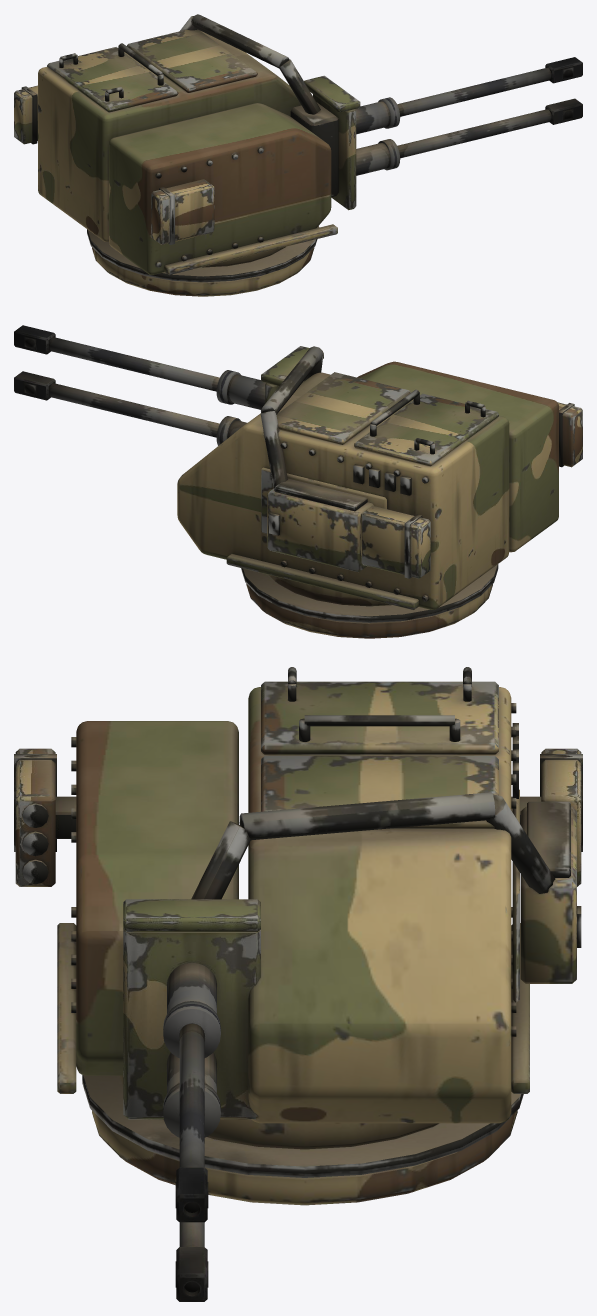
Rendered from turret_grach_t2_reed.glb.
3 views of the same model, one above another, from view 1: azimuth 30°, elevation 25°; view 2: azimuth 150°, elevation 25°; view 3: azimuth 270°, elevation 25° (orthographic). The views are drawn at different scales.
Parts seen in each view (by area): view 1: turret_light_t2, guns, pods; view 2: turret_light_t2, guns, pods; view 3: turret_light_t2, guns, pods.
Part boxes in pixels (x1=…): turret_light_t2: x1=38, y1=14, x2=337, y2=296; guns: x1=290, y1=57, x2=582, y2=210; pods: x1=14, y1=85, x2=214, y2=244; turret_light_t2: x1=177, y1=346, x2=558, y2=638; guns: x1=14, y1=325, x2=323, y2=445; pods: x1=360, y1=402, x2=582, y2=578; turret_light_t2: x1=57, y1=667, x2=581, y2=1205; guns: x1=123, y1=899, x2=260, y2=1301; pods: x1=14, y1=748, x2=582, y2=886.
Bounding box in the file's own units: 1.64 × 0.6416 × 0.9088.
Materials: 3 (3 with a texture image).
